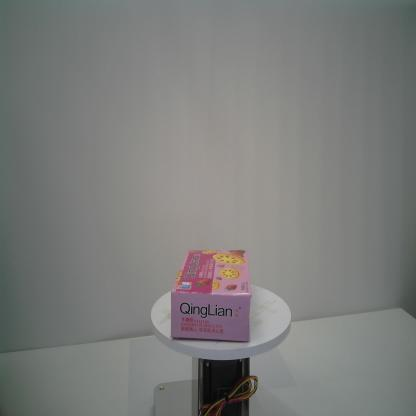Dessert: (170, 250, 253, 341)
